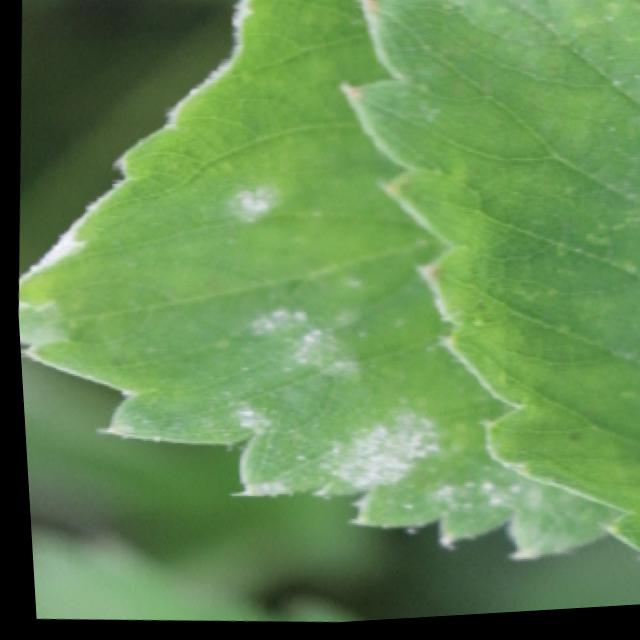Powdery Mildew Leaf: (14, 0, 615, 570)
